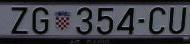-: (138, 18, 145, 24)
3: (76, 6, 93, 35)
4: (116, 7, 135, 36)
5: (97, 7, 114, 35)
C: (149, 6, 165, 34)
G: (32, 6, 49, 35)
U: (169, 7, 187, 34)
Z: (11, 6, 29, 35)
